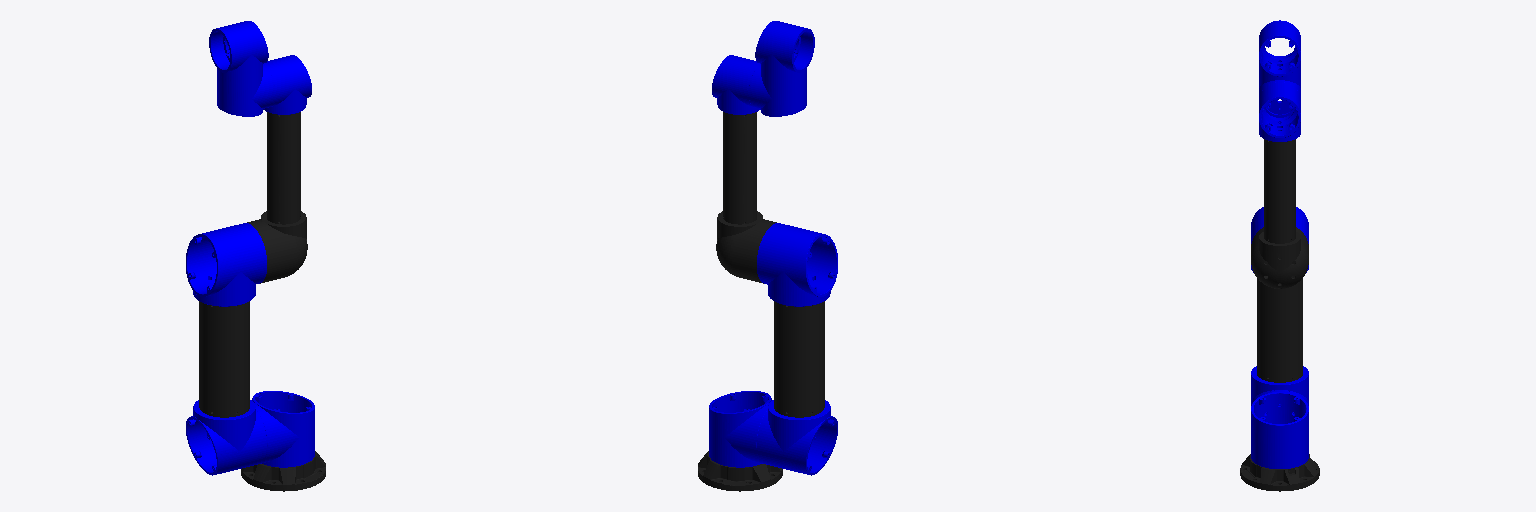
URDF robot description (onshape):
<robot name="onshape">

<link name="base">
<visual>
<origin xyz="0.005 0 0.278" rpy="1.570796326794896558 -0 -1.570796326794896558" />
<geometry>
<mesh filename="package:///workspace/robots/models/base.stl"/>
</geometry>
<material name="base_material">
<color rgba="0.15686274509803921351 0.15686274509803921351 0.15686274509803921351 1.0"/>
</material>
</visual>
<collision>
<origin xyz="0.005 0 0.278" rpy="1.570796326794896558 -0 -1.570796326794896558" />
<geometry>
<mesh filename="package:///workspace/robots/models/base.stl"/>
</geometry>
</collision>
<inertial>
<origin xyz="-0.00011265867616427026332 -4.5386811759117257005e-05 0.017135759761536861756" rpy="0 0 0"/>
<mass value="0.42841802966019687515" />
<inertia ixx="0.00064602507988347260791" ixy="-2.2001300436442401969e-05"  ixz="6.5364849276818986554e-07" iyy="0.00068995950799835580915" iyz="2.6354237622342715372e-07" izz="0.0012406260133752415511" />
</inertial>
</link>

<link name="carriage_1">
<visual>
<origin xyz="0 -0.005 -0.24" rpy="-1.570796326794896558 -0 0" />
<geometry>
<mesh filename="package:///workspace/robots/models/carriage_1.stl"/>
</geometry>
<material name="carriage_1_material">
<color rgba="0 0 1 1.0"/>
</material>
</visual>
<collision>
<origin xyz="0 -0.005 -0.24" rpy="-1.570796326794896558 -0 0" />
<geometry>
<mesh filename="package:///workspace/robots/models/carriage_1.stl"/>
</geometry>
</collision>
<inertial>
<origin xyz="-0.023150399814567530071 -6.8452453490545558945e-06 -0.051939322559866489548" rpy="0 0 0"/>
<mass value="0.41482347331597585471" />
<inertia ixx="0.00086760620138834126588" ixy="2.0975973300442710159e-07"  ixz="-5.335461068506447234e-05" iyy="0.00090177245271764712789" iyz="-1.3396468832869947513e-08" izz="0.0011302714548553933344" />
</inertial>
</link>

<link name="shoulder_lift">
<visual>
<origin xyz="0.185 -0.005 0.066" rpy="-1.570796326794896558 -1.570796326794896558 0" />
<geometry>
<mesh filename="package:///workspace/robots/models/abs_pipe_-_3&quot;.stl"/>
</geometry>
<material name="abs_pipe_-_3&quot;_material">
<color rgba="0.15686274509803921351 0.15686274509803921351 0.15686274509803921351 1.0"/>
</material>
</visual>
<collision>
<origin xyz="0.185 -0.005 0.066" rpy="-1.570796326794896558 -1.570796326794896558 0" />
<geometry>
<mesh filename="package:///workspace/robots/models/abs_pipe_-_3&quot;.stl"/>
</geometry>
</collision>
<visual>
<origin xyz="0.18492527692447696674 -0.005002337924161806039 0.066073318972919486969" rpy="-1.570796326794896558 -1.570796326794896558 0" />
<geometry>
<mesh filename="package:///workspace/robots/models/link_carriage.stl"/>
</geometry>
<material name="link_carriage_material">
<color rgba="0 0 1 1.0"/>
</material>
</visual>
<collision>
<origin xyz="0.18492527692447696674 -0.005002337924161806039 0.066073318972919486969" rpy="-1.570796326794896558 -1.570796326794896558 0" />
<geometry>
<mesh filename="package:///workspace/robots/models/link_carriage.stl"/>
</geometry>
</collision>
<visual>
<origin xyz="0.185 -0.0048 0.066" rpy="-1.570796326794896558 -1.570796326794896558 0" />
<geometry>
<mesh filename="package:///workspace/robots/models/carriage_2.stl"/>
</geometry>
<material name="carriage_2_material">
<color rgba="0 0 1 1.0"/>
</material>
</visual>
<collision>
<origin xyz="0.185 -0.0048 0.066" rpy="-1.570796326794896558 -1.570796326794896558 0" />
<geometry>
<mesh filename="package:///workspace/robots/models/carriage_2.stl"/>
</geometry>
</collision>
<inertial>
<origin xyz="0.02315029420940292737 6.8343455309500394934e-06 -0.05193936685330259595" rpy="0 0 0"/>
<mass value="0.41482359472485302865" />
<inertia ixx="0.00086760335304015884141" ixy="2.0620860157982380339e-07"  ixz="5.3355089090974940167e-05" iyy="0.00090177397441154171637" iyz="1.1881109004419204797e-08" izz="0.0011302709841813816331" />
</inertial>
</link>

<link name="elbow">
<visual>
<origin xyz="-0.165 0.005 -0.065" rpy="1.570796326794896558 1.570796326794896558 0" />
<geometry>
<mesh filename="package:///workspace/robots/models/knee_cap.stl"/>
</geometry>
<material name="knee_cap_material">
<color rgba="0.15686274509803921351 0.15686274509803921351 0.15686274509803921351 1.0"/>
</material>
</visual>
<collision>
<origin xyz="-0.165 0.005 -0.065" rpy="1.570796326794896558 1.570796326794896558 0" />
<geometry>
<mesh filename="package:///workspace/robots/models/knee_cap.stl"/>
</geometry>
</collision>
<visual>
<origin xyz="-0.168 0.005 -0.065" rpy="1.570796326794896558 1.570796326794896558 0" />
<geometry>
<mesh filename="package:///workspace/robots/models/abs_pipe_-_2&quot;.stl"/>
</geometry>
<material name="abs_pipe_-_2&quot;_material">
<color rgba="0.15686274509803921351 0.15686274509803921351 0.15686274509803921351 1.0"/>
</material>
</visual>
<collision>
<origin xyz="-0.168 0.005 -0.065" rpy="1.570796326794896558 1.570796326794896558 0" />
<geometry>
<mesh filename="package:///workspace/robots/models/abs_pipe_-_2&quot;.stl"/>
</geometry>
</collision>
<visual>
<origin xyz="-0.168 0.005 -0.065" rpy="1.570796326794896558 1.570796326794896558 0" />
<geometry>
<mesh filename="package:///workspace/robots/models/wrist_carriage_1.stl"/>
</geometry>
<material name="wrist_carriage_1_material">
<color rgba="0 0 1 1.0"/>
</material>
</visual>
<collision>
<origin xyz="-0.168 0.005 -0.065" rpy="1.570796326794896558 1.5707963267948950037 0" />
<geometry>
<mesh filename="package:///workspace/robots/models/wrist_carriage_1.stl"/>
</geometry>
</collision>
<inertial>
<origin xyz="0 0 0" rpy="0 0 0"/>
<mass value="0" />
<inertia ixx="0" ixy="0"  ixz="0" iyy="0" iyz="0" izz="0" />
</inertial>
</link>

<link name="wrist_carriage_2">
<visual>
<origin xyz="-0.488 -0.005 0.041" rpy="-1.570796326794896558 -1.570796326794896558 0" />
<geometry>
<mesh filename="package:///workspace/robots/models/wrist_carriage_2.stl"/>
</geometry>
<material name="wrist_carriage_2_material">
<color rgba="0 0 1 1.0"/>
</material>
</visual>
<collision>
<origin xyz="-0.488 -0.005 0.041" rpy="-1.570796326794896558 -1.570796326794896558 0" />
<geometry>
<mesh filename="package:///workspace/robots/models/wrist_carriage_2.stl"/>
</geometry>
</collision>
<inertial>
<origin xyz="0 0 0" rpy="0 0 0"/>
<mass value="0" />
<inertia ixx="0" ixy="0"  ixz="0" iyy="0" iyz="0" izz="0" />
</inertial>
</link>

<link name="wrist_carriage_3">
<visual>
<origin xyz="0.0895 -0.005 0.53" rpy="-1.570796326794896558 0 0" />
<geometry>
<mesh filename="package:///workspace/robots/models/wrist_carriage_3.stl"/>
</geometry>
<material name="wrist_carriage_3_material">
<color rgba="0 0 1 1.0"/>
</material>
</visual>
<collision>
<origin xyz="0.0895 -0.005 0.53" rpy="-1.570796326794896558 0 0" />
<geometry>
<mesh filename="package:///workspace/robots/models/wrist_carriage_3.stl"/>
</geometry>
</collision>
<inertial>
<origin xyz="0 0 0" rpy="0 0 0"/>
<mass value="0" />
<inertia ixx="0" ixy="0"  ixz="0" iyy="0" iyz="0" izz="0" />
</inertial>
</link>

<link name="end_effector">
<!-- <visual>
<origin xyz="0 0 0" rpy="-3.141592653589793116 0 0" />
<geometry>
<mesh filename="package:///workspace/robots/models/z.stl"/>
</geometry>
<material name="z_material">
<color rgba="0.2313725490196078538 0.38039215686274507888 0.7058823529411765163 1.0"/>
</material>
</visual>

<visual>
<origin xyz="0 0 0" rpy="-3.141592653589793116 0 0" />
<geometry>
<mesh filename="package:///workspace/robots/models/y.stl"/>
</geometry>
<material name="y_material">
<color rgba="0.37254901960784314596 0.65490196078431373028 0.23921568627450981448 1.0"/>
</material>
</visual>

<visual>
<origin xyz="0 0 0" rpy="-3.141592653589793116 0 0" />
<geometry>
<mesh filename="package:///workspace/robots/models/x.stl"/>
</geometry>
<material name="x_material">
<color rgba="1 0 0 1.0"/>
</material>
</visual>

<inertial>
<origin xyz="0 0 0" rpy="0 0 0"/>
<mass value="0" />
<inertia ixx="0" ixy="0"  ixz="0" iyy="0" iyz="0" izz="0" />
</inertial> -->
</link>

<joint name="ee_joint" type="revolute">
    <origin xyz="-0.04 0 -0.0485" rpy="0 -1.570796326794896558 0"/>
    <!-- <origin xyz="-0.04 0 0" rpy="-1.570796326794896558 0 -1.570796326794896558"/> -->
    <parent link="wrist_carriage_3"/>
    <child link="end_effector"/>
    <axis xyz="0 0 1"/>
    <limit effort="1" velocity="1" lower="0" upper="6.28318530718" />
    <joint_properties friction="0.0"/>
</joint>

<joint name="wrist_2" type="revolute">
    <origin xyz="0.04 0 -0.0485" rpy="0 -1.570796326794896558 0" />
    <parent link="wrist_carriage_2" />
    <child link="wrist_carriage_3" />
    <axis xyz="0 0 1"/>
    <limit effort="1" velocity="1" lower="0" upper="6.28318530718" />
    <joint_properties friction="0.0"/>
</joint>

<joint name="wrist_1" type="revolute">
    <origin xyz="0.32 0 -0.025" rpy="3.1415926535897922278 0 0" />
    <parent link="elbow" />
    <child link="wrist_carriage_2" />
    <axis xyz="0 0 1"/>
    <limit effort="1" velocity="1" lower="0" upper="6.28318530718" />
    <joint_properties friction="0.0"/>
</joint>

<joint name="shoulder_bend" type="revolute">
    <origin xyz="0.35 0 0" rpy="-3.141592653589793116 0 0" />
    <parent link="shoulder_lift" />
    <child link="elbow" />
    <axis xyz="0 0 1"/>
    <limit effort="1" velocity="1" lower="0" upper="6.28318530718" />
    <joint_properties friction="0.0"/>
</joint>

<joint name="shoulder_lift" type="revolute">
    <origin xyz="-0.065 0 -0.055" rpy="0 1.5707963267948923392 0" />
    <parent link="carriage_1" />
    <child link="shoulder_lift" />
    <axis xyz="0 0 1"/>
    <limit effort="1" velocity="1" lower="0" upper="6.28318530718" />
    <joint_properties friction="0.0"/>
</joint>

<joint name="shoulder_rotate" type="revolute">
    <origin xyz="0 0 0.037" rpy="-3.141592653589793116 0 0" />
    <parent link="base" />
    <child link="carriage_1" />
    <axis xyz="0 0 1"/>
    <limit effort="1" velocity="1" lower="0" upper="6.28318530718" />
    <joint_properties friction="0.0"/>
</joint>




</robot>

--- What the picture shows (computed from the rendered views, not written in the file) ---
3 views of the same robot in one strip: view 1: azimuth 30°, elevation 25°; view 2: azimuth 150°, elevation 25°; view 3: azimuth 270°, elevation 25° (orthographic).
Robot: onshape — 7 links, 6 joints (6 revolute); root link base; default pose: all joints at 0.
Links seen in each view (by area): view 1: shoulder_lift, elbow, carriage_1, wrist_carriage_3, wrist_carriage_2, base; view 2: shoulder_lift, elbow, carriage_1, wrist_carriage_3, wrist_carriage_2, base; view 3: elbow, shoulder_lift, carriage_1, wrist_carriage_3, base, wrist_carriage_2.
Link boxes in pixels (<box>): shoulder_lift: <box>186,223,266,475</box>; elbow: <box>247,55,311,283</box>; carriage_1: <box>252,391,314,467</box>; wrist_carriage_3: <box>209,21,268,79</box>; wrist_carriage_2: <box>217,64,274,116</box>; base: <box>241,451,325,491</box>; shoulder_lift: <box>757,223,837,475</box>; elbow: <box>712,55,776,283</box>; carriage_1: <box>709,391,771,467</box>; wrist_carriage_3: <box>755,21,814,79</box>; wrist_carriage_2: <box>749,64,806,116</box>; base: <box>698,451,782,491</box>; elbow: <box>1251,82,1308,288</box>; shoulder_lift: <box>1251,207,1308,405</box>; carriage_1: <box>1251,390,1308,468</box>; wrist_carriage_3: <box>1259,20,1300,79</box>; base: <box>1240,454,1319,491</box>; wrist_carriage_2: <box>1259,74,1300,117</box>.
Bounding box of the posed robot: 0.251 × 0.15 × 0.89 m (x, y, z).
Meshes: 10 distinct files referenced, 10 mesh visuals loaded (10 binary STL).